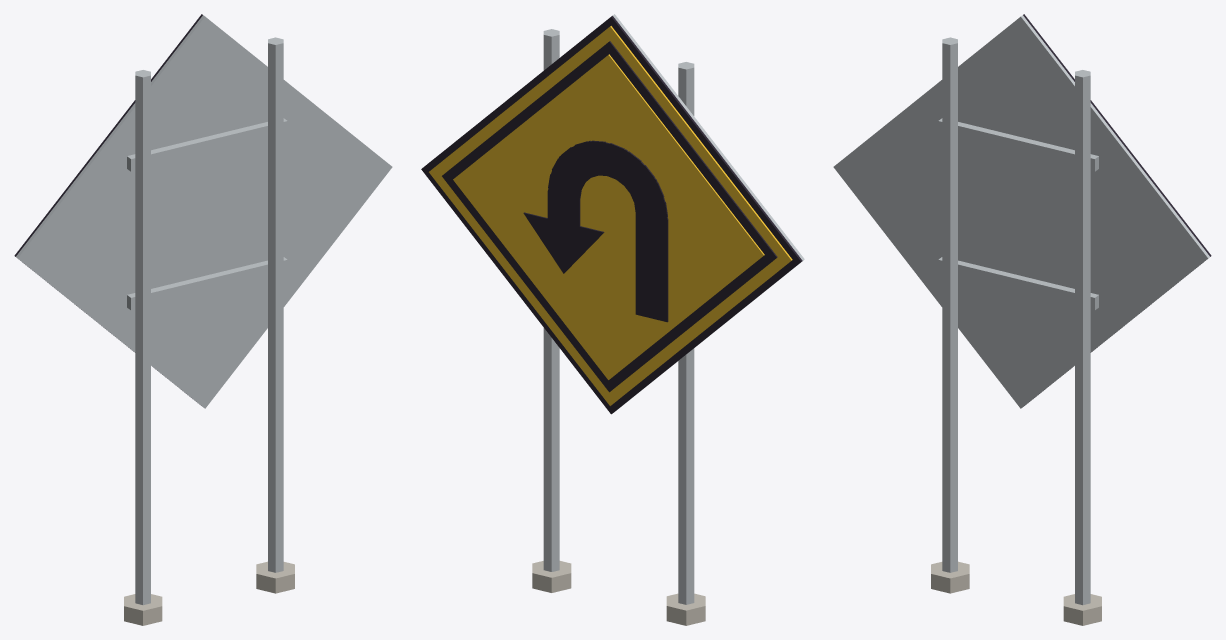
Rendered from corner_warn_hairpin_left.glb.
The picture shows the model from 3 angles, left to right: view 1: azimuth 30°, elevation 25°; view 2: azimuth 150°, elevation 25°; view 3: azimuth 330°, elevation 25°; orthographic projection.
Parts seen in each view (by area): view 1: corner_warn_hairpin_left; view 2: corner_warn_hairpin_left; view 3: corner_warn_hairpin_left.
Part boxes in pixels (x1=…): corner_warn_hairpin_left: x1=14, y1=14, x2=392, y2=625; corner_warn_hairpin_left: x1=421, y1=14, x2=804, y2=625; corner_warn_hairpin_left: x1=833, y1=14, x2=1211, y2=625.
Bounding box in the file's own units: 3.11 × 4.61 × 0.2996.
